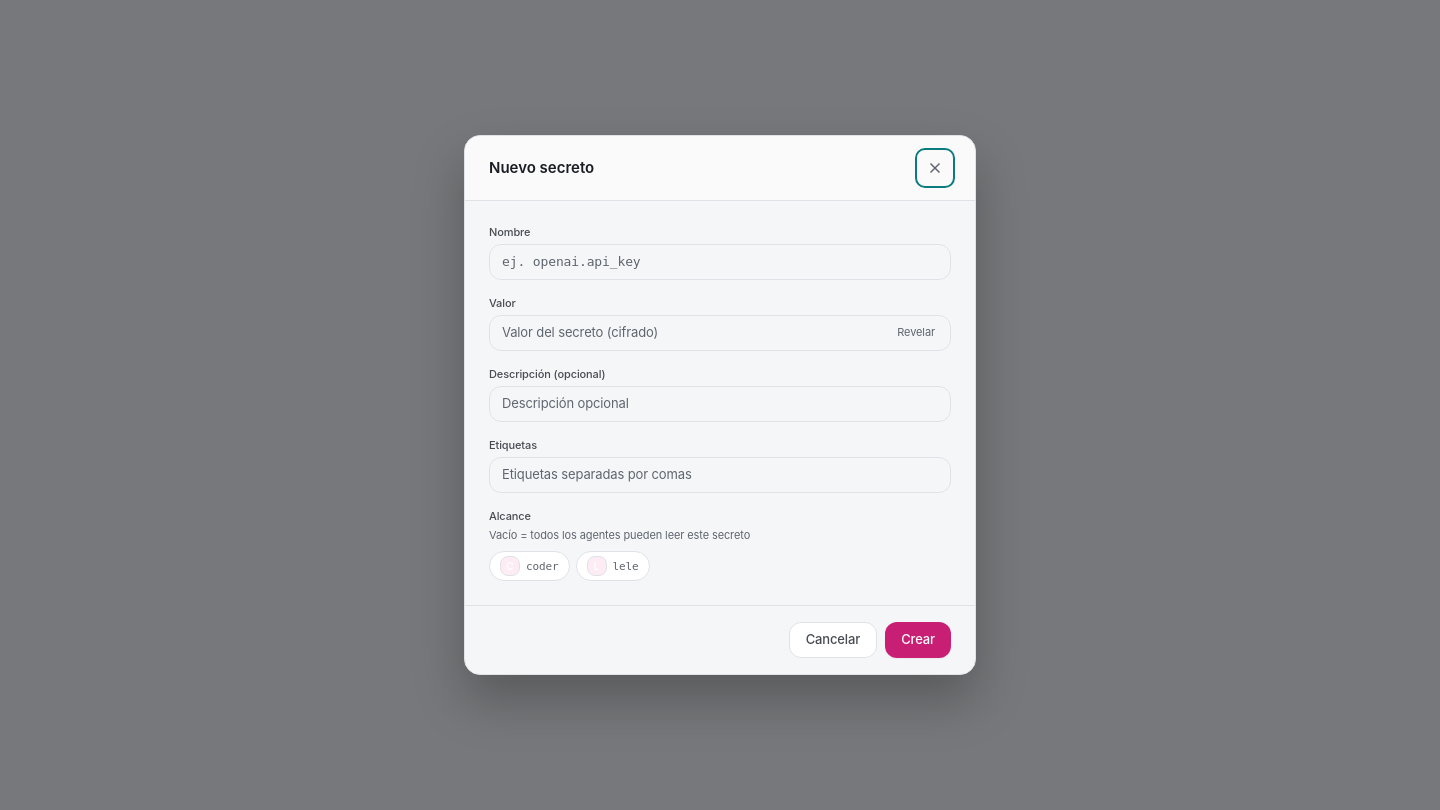
Test: SecretFormModal — edit mode › creating still requires a value
The width and height of the screenshot is (1440, 810).
Type "gh.new_token" into the field with id "secret-name" at (720, 262), box x1=489 y1=244 x2=951 y2=280
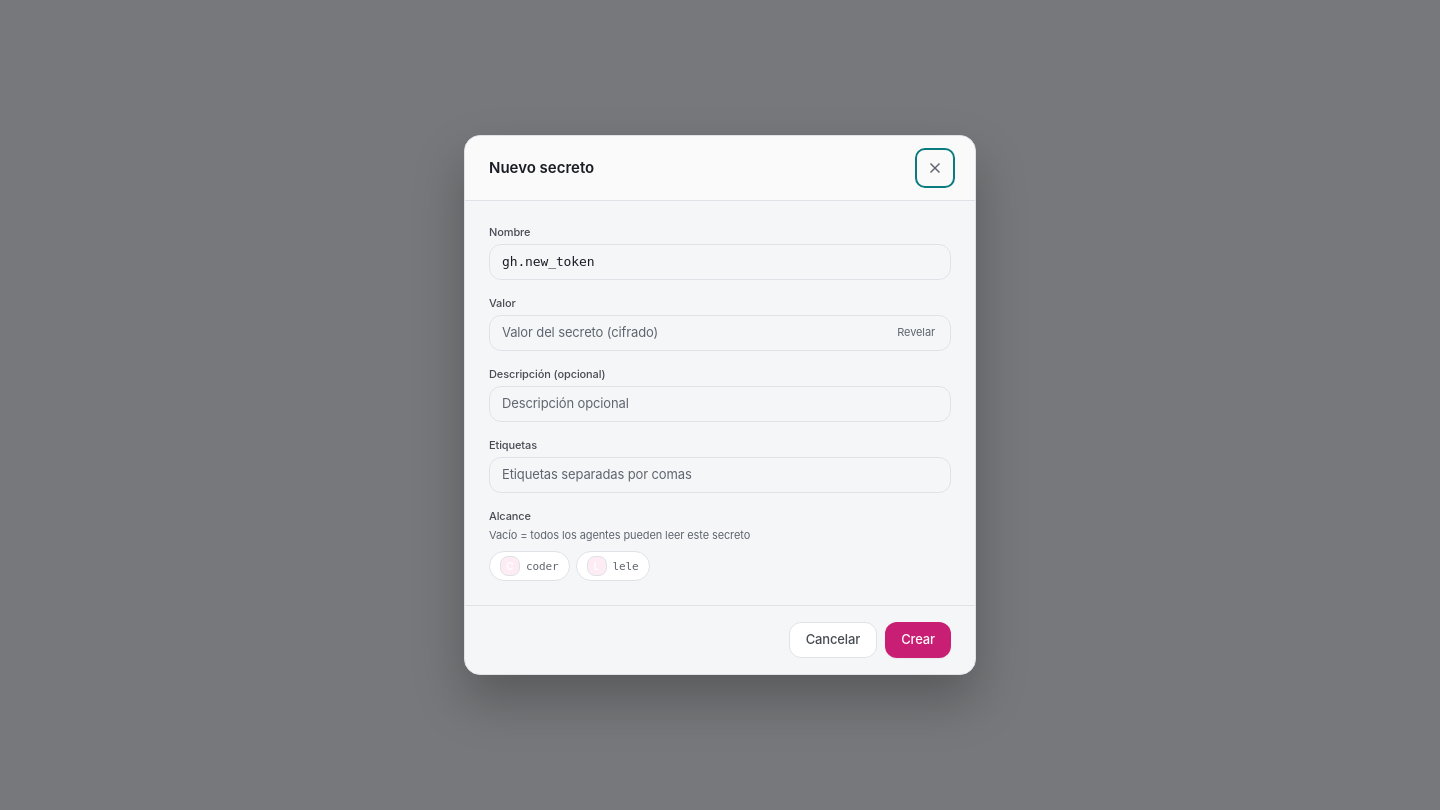
Click the button "Crear" at (918, 640), box x1=885 y1=622 x2=951 y2=658
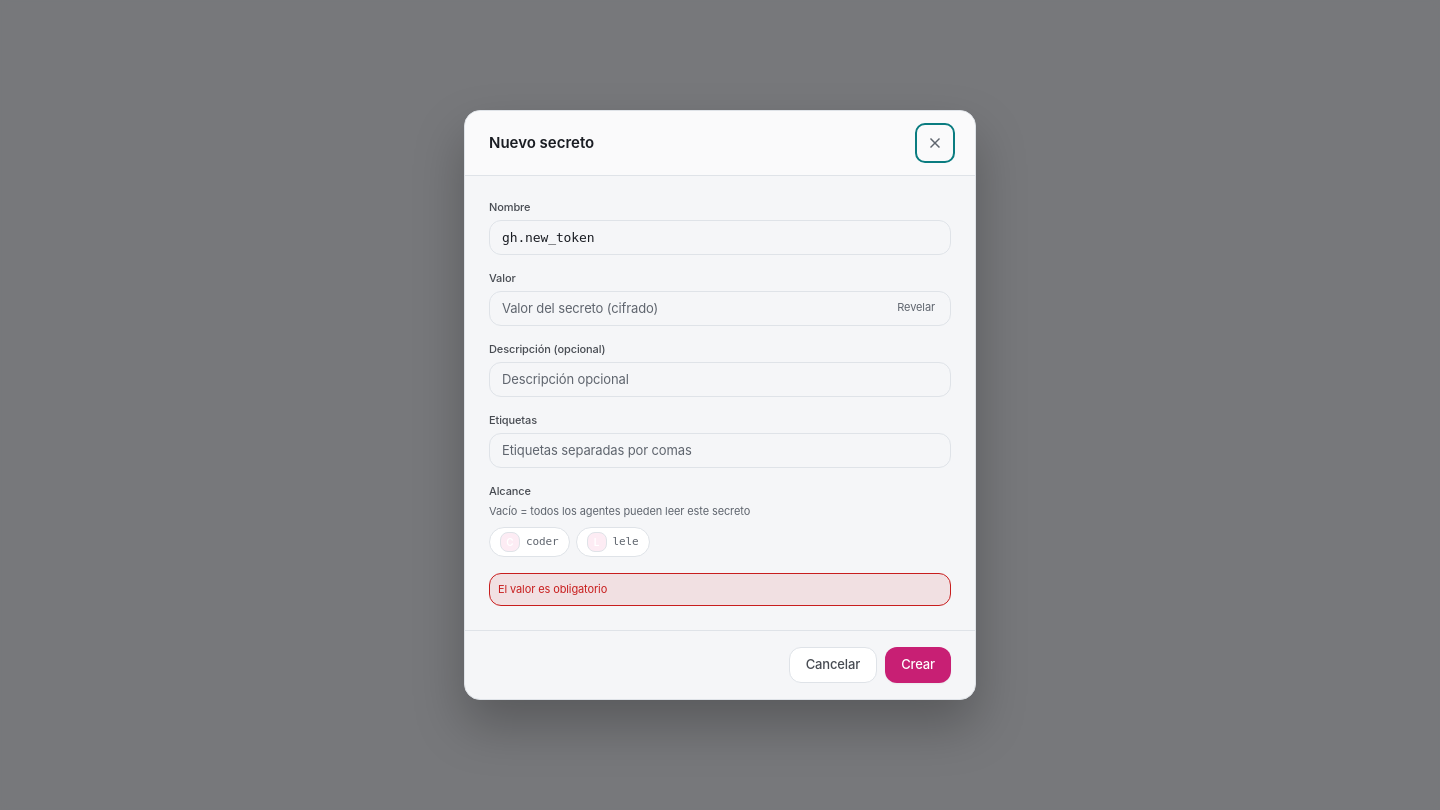
Result: the text "El valor es obligatorio" is shown at x1=489 y1=573 x2=951 y2=606
